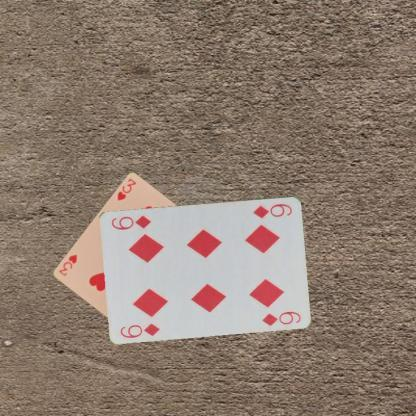3h: (114, 176, 138, 202)
6d: (250, 200, 294, 219), (118, 320, 161, 339)
